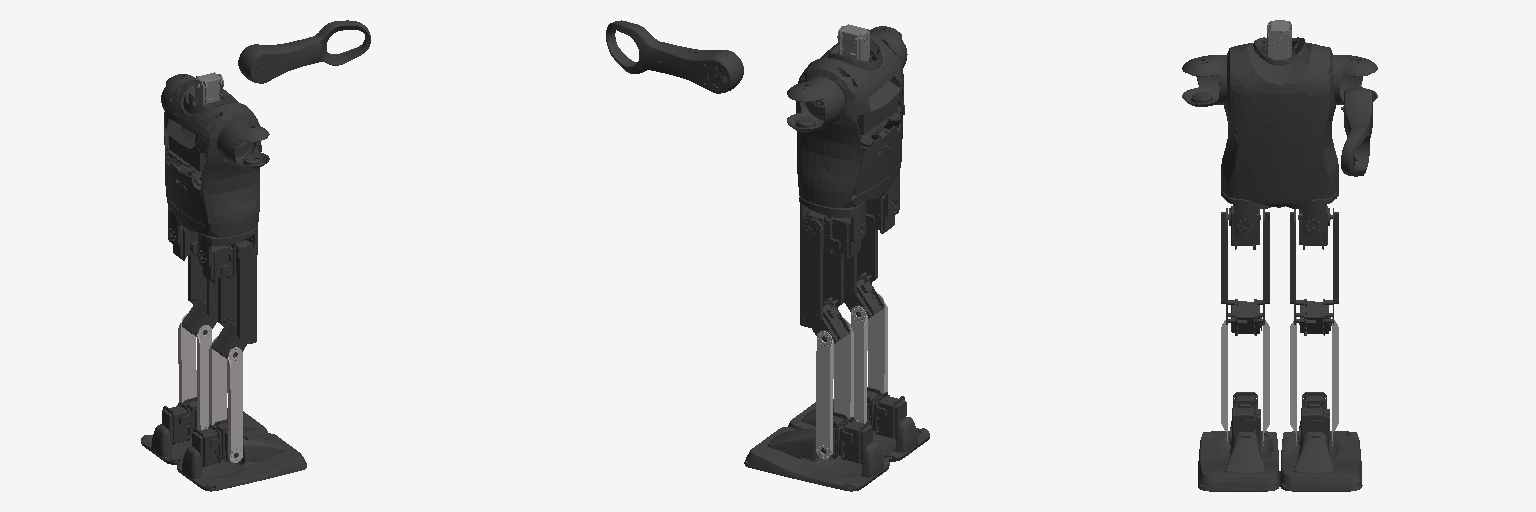
robot.urdf — onshape:
<robot name="onshape">
<link name="torso">
<visual>
<origin xyz="0 0 0" rpy="0 -0 0" />
<geometry>
<mesh filename="torso_visual.stl"/>
</geometry>
<material name="torso_material">
<color rgba="0.277513 0.284814 0.292115 1.0"/>
</material>
</visual>
<collision>
<origin xyz="0 0 0" rpy="0 -0 0" />
<geometry>
<mesh filename="torso_collision.stl"/>
</geometry>
<material name="torso_material">
<color rgba="0.5 0.5 0.5 1.0"/>
</material>
</collision>
<inertial>
<origin xyz="-0.000640019 -4.78299e-05 0.106034" rpy="0 0 0"/>
<mass value="2.92465" />
<inertia ixx="0.0180827" ixy="9.18672e-05"  ixz="-0.00120661" iyy="0.0158474" iyz="-5.19191e-08" izz="0.00831632" />
</inertial>
</link>

<link name="left_hip_yaw">
<visual>
<origin xyz="0 0 0" rpy="0 -0 0" />
<geometry>
<mesh filename="left_hip_yaw_visual.stl"/>
</geometry>
<material name="left_hip_yaw_material">
<color rgba="0.286275 0.286275 0.286275 1.0"/>
</material>
</visual>
<collision>
<origin xyz="0 0 0" rpy="0 -0 0" />
<geometry>
<mesh filename="left_hip_yaw_collision.stl"/>
</geometry>
<material name="left_hip_yaw_material">
<color rgba="0.5 0.5 0.5 1.0"/>
</material>
</collision>
<inertial>
<origin xyz="0.00894798 -0.0021828 -0.0247563" rpy="0 0 0"/>
<mass value="0.0594023" />
<inertia ixx="0.000103641" ixy="-1.01414e-07"  ixz="1.50388e-06" iyy="5.24124e-05" iyz="-4.66978e-07" izz="0.000118627" />
</inertial>
</link>

<link name="left_hip_roll">
<visual>
<origin xyz="0 0 0" rpy="0 -0 0" />
<geometry>
<mesh filename="left_hip_roll_visual.stl"/>
</geometry>
<material name="left_hip_roll_material">
<color rgba="0.286275 0.286275 0.286275 1.0"/>
</material>
</visual>
<collision>
<origin xyz="0 0 0" rpy="0 -0 0" />
<geometry>
<mesh filename="left_hip_roll_collision.stl"/>
</geometry>
<material name="left_hip_roll_material">
<color rgba="0.5 0.5 0.5 1.0"/>
</material>
</collision>
<inertial>
<origin xyz="0.015733 -0.000686158 -0.0217073" rpy="0 0 0"/>
<mass value="0.395953" />
<inertia ixx="0.000314298" ixy="1.5275e-09"  ixz="9.78492e-18" iyy="0.000375808" iyz="5.62038e-06" izz="0.000127785" />
</inertial>
</link>

<link name="left_upper_leg">
<visual>
<origin xyz="0 0 0" rpy="0 -0 0" />
<geometry>
<mesh filename="left_upper_leg_visual.stl"/>
</geometry>
<material name="left_upper_leg_material">
<color rgba="0.286275 0.286275 0.286275 1.0"/>
</material>
</visual>
<collision>
<origin xyz="0 0 0" rpy="0 -0 0" />
<geometry>
<mesh filename="left_upper_leg_collision.stl"/>
</geometry>
<material name="left_upper_leg_material">
<color rgba="0.5 0.5 0.5 1.0"/>
</material>
</collision>
<inertial>
<origin xyz="0.184283 0.0137441 0.000560875" rpy="0 0 0"/>
<mass value="0.164996" />
<inertia ixx="5.75131e-05" ixy="1.69997e-05"  ixz="1.58805e-06" iyy="6.53561e-05" iyz="-1.25756e-06" izz="6.23689e-05" />
</inertial>
</link>

<link name="left_lower_leg">
<visual>
<origin xyz="0 0 0" rpy="0 -0 0" />
<geometry>
<mesh filename="left_lower_leg_visual.stl"/>
</geometry>
<material name="left_lower_leg_material">
<color rgba="0.737255 0.721569 0.717647 1.0"/>
</material>
</visual>
<collision>
<origin xyz="0 0 0" rpy="0 -0 0" />
<geometry>
<mesh filename="left_lower_leg_collision.stl"/>
</geometry>
<material name="left_lower_leg_material">
<color rgba="0.5 0.5 0.5 1.0"/>
</material>
</collision>
<inertial>
<origin xyz="0.1001 0.00388186 -1.61259e-08" rpy="0 0 0"/>
<mass value="0.0893011" />
<inertia ixx="9.01254e-05" ixy="1.57184e-09"  ixz="-7.87158e-11" iyy="0.000408951" iyz="1.16101e-11" izz="0.0003363" />
</inertial>
</link>

<link name="left_ankle">
<visual>
<origin xyz="0 0 0" rpy="0 -0 0" />
<geometry>
<mesh filename="left_ankle_visual.stl"/>
</geometry>
<material name="left_ankle_material">
<color rgba="0.286275 0.286275 0.286275 1.0"/>
</material>
</visual>
<collision>
<origin xyz="0 0 0" rpy="0 -0 0" />
<geometry>
<mesh filename="left_ankle_collision.stl"/>
</geometry>
<material name="left_ankle_material">
<color rgba="0.5 0.5 0.5 1.0"/>
</material>
</collision>
<inertial>
<origin xyz="0.0219762 0.015733 0.000512596" rpy="0 0 0"/>
<mass value="0.329993" />
<inertia ixx="0.000141335" ixy="2.0288e-06"  ixz="3.69044e-06" iyy="0.000247382" iyz="-2.02253e-06" izz="0.000300569" />
</inertial>
</link>

<link name="left_foot">
<visual>
<origin xyz="0 0 0" rpy="0 -0 0" />
<geometry>
<mesh filename="left_foot_visual.stl"/>
</geometry>
<material name="left_foot_material">
<color rgba="0.286275 0.286275 0.286275 1.0"/>
</material>
</visual>
<collision>
<origin xyz="0 0 0" rpy="0 -0 0" />
<geometry>
<mesh filename="left_foot_collision.stl"/>
</geometry>
<material name="left_foot_material">
<color rgba="0.5 0.5 0.5 1.0"/>
</material>
</collision>
<inertial>
<origin xyz="0.0248226 0.00798542 0.033284" rpy="0 0 0"/>
<mass value="0.245581" />
<inertia ixx="0.00134722" ixy="-9.73697e-06"  ixz="2.7382e-08" iyy="0.00108383" iyz="-1.34065e-05" izz="0.000332029" />
</inertial>
</link>

<link name="left_foot_base">
<visual>
<origin xyz="0 0 0" rpy="0 -0 0" />
<geometry>
<mesh filename="left_foot_base_visual.stl"/>
</geometry>
<material name="left_foot_base_material">
<color rgba="0.5 0.5 0.5 1.0"/>
</material>
</visual>
<collision>
<origin xyz="0 0 0" rpy="0 -0 0" />
<geometry>
<mesh filename="left_foot_base_collision.stl"/>
</geometry>
<material name="left_foot_base_material">
<color rgba="0.5 0.5 0.5 1.0"/>
</material>
</collision>
<inertial>
<origin xyz="0 0 0" rpy="0 0 0"/>
<mass value="0" />
<inertia ixx="0" ixy="0"  ixz="0" iyy="0" iyz="0" izz="0" />
</inertial>
</link>

<joint name="left_foot_base" type="fixed">
<origin xyz="0.0360246 2.77556e-17 1.30104e-18" rpy="8.86985e-31 -1.5708 0" />
<parent link="left_foot" />
<child link="left_foot_base" />
<axis xyz="0 0 1"/>
<limit effort="1" velocity="20" />
<joint_properties friction="0.0"/>
</joint>

<joint name="left_ankle_roll" type="revolute">
<origin xyz="4.34742e-09 4.58116e-10 -3.08702e-09" rpy="1.5708 3.11019e-14 -1.5708" />
<parent link="left_ankle" />
<child link="left_foot" />
<axis xyz="0 0 1"/>
<limit effort="1" velocity="20" lower="-3.14159" upper="3.14159"/>
<joint_properties friction="0.0"/>
</joint>

<joint name="left_ankle_pitch" type="revolute">
<origin xyz="0.200203 -3.25261e-17 2.27963e-09" rpy="4.2823e-15 8.25556e-15 1.5708" />
<parent link="left_lower_leg" />
<child link="left_ankle" />
<axis xyz="0 0 1"/>
<limit effort="1" velocity="20" lower="-3.14159" upper="3.14159"/>
<joint_properties friction="0.0"/>
</joint>

<joint name="left_knee_pitch" type="revolute">
<origin xyz="0.196593 0.023541 -4.85723e-17" rpy="-2.39295e-17 2.00368e-15 -0.00872665" />
<parent link="left_upper_leg" />
<child link="left_lower_leg" />
<axis xyz="0 0 1"/>
<limit effort="1" velocity="20" lower="-3.14159" upper="3.14159"/>
<joint_properties friction="0.0"/>
</joint>

<joint name="left_hip_pitch" type="revolute">
<origin xyz="0 1.38778e-17 6.93889e-18" rpy="-1.5708 -9.99201e-16 9.62078e-15" />
<parent link="left_hip_roll" />
<child link="left_upper_leg" />
<axis xyz="0 0 1"/>
<limit effort="1" velocity="20" lower="-3.14159" upper="3.14159"/>
<joint_properties friction="0.0"/>
</joint>

<joint name="left_hip_roll" type="revolute">
<origin xyz="6.93889e-18 0.0221332 -0.0545" rpy="-1.5708 1.5708 0" />
<parent link="left_hip_yaw" />
<child link="left_hip_roll" />
<axis xyz="0 0 1"/>
<limit effort="1" velocity="20" lower="-3.14159" upper="3.14159"/>
<joint_properties friction="0.0"/>
</joint>

<joint name="left_hip_yaw" type="revolute">
<origin xyz="0 0.055 0" rpy="1.00616e-25 -1.69834e-26 -1.5708" />
<parent link="torso" />
<child link="left_hip_yaw" />
<axis xyz="0 0 1"/>
<limit effort="1" velocity="20" lower="-3.14159" upper="3.14159"/>
<joint_properties friction="0.0"/>
</joint>

<link name="right_hip_yaw">
<visual>
<origin xyz="0 0 0" rpy="0 -0 0" />
<geometry>
<mesh filename="right_hip_yaw_visual.stl"/>
</geometry>
<material name="right_hip_yaw_material">
<color rgba="0.286275 0.286275 0.286275 1.0"/>
</material>
</visual>
<collision>
<origin xyz="0 0 0" rpy="0 -0 0" />
<geometry>
<mesh filename="right_hip_yaw_collision.stl"/>
</geometry>
<material name="right_hip_yaw_material">
<color rgba="0.5 0.5 0.5 1.0"/>
</material>
</collision>
<inertial>
<origin xyz="0.0089479 0.00218277 -0.0247564" rpy="0 0 0"/>
<mass value="0.0594022" />
<inertia ixx="0.000103641" ixy="1.01073e-07"  ixz="1.50417e-06" iyy="5.24117e-05" iyz="4.67163e-07" izz="0.000118626" />
</inertial>
</link>

<link name="right_hip_roll">
<visual>
<origin xyz="0 0 0" rpy="0 -0 0" />
<geometry>
<mesh filename="right_hip_roll_visual.stl"/>
</geometry>
<material name="right_hip_roll_material">
<color rgba="0.286275 0.286275 0.286275 1.0"/>
</material>
</visual>
<collision>
<origin xyz="0 0 0" rpy="0 -0 0" />
<geometry>
<mesh filename="right_hip_roll_collision.stl"/>
</geometry>
<material name="right_hip_roll_material">
<color rgba="0.5 0.5 0.5 1.0"/>
</material>
</collision>
<inertial>
<origin xyz="0.015733 -0.000232251 -0.0218286" rpy="0 0 0"/>
<mass value="0.395953" />
<inertia ixx="0.000316367" ixy="-9.04561e-09"  ixz="-3.13402e-20" iyy="0.000378025" iyz="1.97787e-06" izz="0.000127637" />
</inertial>
</link>

<link name="right_upper_leg">
<visual>
<origin xyz="0 0 0" rpy="0 -0 0" />
<geometry>
<mesh filename="right_upper_leg_visual.stl"/>
</geometry>
<material name="right_upper_leg_material">
<color rgba="0.286275 0.286275 0.286275 1.0"/>
</material>
</visual>
<collision>
<origin xyz="0 0 0" rpy="0 -0 0" />
<geometry>
<mesh filename="right_upper_leg_collision.stl"/>
</geometry>
<material name="right_upper_leg_material">
<color rgba="0.5 0.5 0.5 1.0"/>
</material>
</collision>
<inertial>
<origin xyz="0.184283 0.0137441 0.00101087" rpy="0 0 0"/>
<mass value="0.164996" />
<inertia ixx="5.75131e-05" ixy="1.69997e-05"  ixz="1.58805e-06" iyy="6.53561e-05" iyz="-1.25756e-06" izz="6.23689e-05" />
</inertial>
</link>

<link name="right_lower_leg">
<visual>
<origin xyz="0 0 0" rpy="0 -0 0" />
<geometry>
<mesh filename="right_lower_leg_visual.stl"/>
</geometry>
<material name="right_lower_leg_material">
<color rgba="0.737255 0.721569 0.717647 1.0"/>
</material>
</visual>
<collision>
<origin xyz="0 0 0" rpy="0 -0 0" />
<geometry>
<mesh filename="right_lower_leg_collision.stl"/>
</geometry>
<material name="right_lower_leg_material">
<color rgba="0.5 0.5 0.5 1.0"/>
</material>
</collision>
<inertial>
<origin xyz="0.100103 0.00388186 1.61259e-08" rpy="0 0 0"/>
<mass value="0.0893011" />
<inertia ixx="9.01254e-05" ixy="-1.57184e-09"  ixz="-7.87158e-11" iyy="0.000408951" iyz="-1.16101e-11" izz="0.0003363" />
</inertial>
</link>

<link name="right_ankle">
<visual>
<origin xyz="0 0 0" rpy="0 -0 0" />
<geometry>
<mesh filename="right_ankle_visual.stl"/>
</geometry>
<material name="right_ankle_material">
<color rgba="0.286275 0.286275 0.286275 1.0"/>
</material>
</visual>
<collision>
<origin xyz="0 0 0" rpy="0 -0 0" />
<geometry>
<mesh filename="right_ankle_collision.stl"/>
</geometry>
<material name="right_ankle_material">
<color rgba="0.5 0.5 0.5 1.0"/>
</material>
</collision>
<inertial>
<origin xyz="0.0219762 -0.015733 -0.000512596" rpy="0 0 0"/>
<mass value="0.329993" />
<inertia ixx="0.000141335" ixy="2.02253e-06"  ixz="-3.69044e-06" iyy="0.000247382" iyz="-2.0288e-06" izz="0.000300569" />
</inertial>
</link>

<link name="right_foot">
<visual>
<origin xyz="0 0 0" rpy="0 -0 0" />
<geometry>
<mesh filename="right_foot_visual.stl"/>
</geometry>
<material name="right_foot_material">
<color rgba="0.286275 0.286275 0.286275 1.0"/>
</material>
</visual>
<collision>
<origin xyz="0 0 0" rpy="0 -0 0" />
<geometry>
<mesh filename="right_foot_collision.stl"/>
</geometry>
<material name="right_foot_material">
<color rgba="0.5 0.5 0.5 1.0"/>
</material>
</collision>
<inertial>
<origin xyz="0.024823 -0.00798676 0.0332808" rpy="0 0 0"/>
<mass value="0.245567" />
<inertia ixx="0.00134712" ixy="9.73589e-06"  ixz="2.22656e-08" iyy="0.00108376" iyz="1.34039e-05" izz="0.000331997" />
</inertial>
</link>

<link name="right_foot_base">
<visual>
<origin xyz="0 0 0" rpy="0 -0 0" />
<geometry>
<mesh filename="right_foot_base_visual.stl"/>
</geometry>
<material name="right_foot_base_material">
<color rgba="0.5 0.5 0.5 1.0"/>
</material>
</visual>
<collision>
<origin xyz="0 0 0" rpy="0 -0 0" />
<geometry>
<mesh filename="right_foot_base_collision.stl"/>
</geometry>
<material name="right_foot_base_material">
<color rgba="0.5 0.5 0.5 1.0"/>
</material>
</collision>
<inertial>
<origin xyz="0 0 0" rpy="0 0 0"/>
<mass value="0" />
<inertia ixx="0" ixy="0"  ixz="0" iyy="0" iyz="0" izz="0" />
</inertial>
</link>

<joint name="right_foot_base" type="fixed">
<origin xyz="0.0360246 1.38778e-17 6.93889e-18" rpy="1.91535e-30 -1.5708 0" />
<parent link="right_foot" />
<child link="right_foot_base" />
<axis xyz="0 0 1"/>
<limit effort="1" velocity="20" />
<joint_properties friction="0.0"/>
</joint>

<joint name="right_ankle_roll" type="revolute">
<origin xyz="4.34741e-09 -4.58126e-10 3.08702e-09" rpy="-1.5708 -1.2536e-14 1.5708" />
<parent link="right_ankle" />
<child link="right_foot" />
<axis xyz="0 0 1"/>
<limit effort="1" velocity="20" lower="-3.14159" upper="3.14159"/>
<joint_properties friction="0.0"/>
</joint>

<joint name="right_ankle_pitch" type="revolute">
<origin xyz="0.200203 3.29597e-17 2.27963e-09" rpy="3.14159 1.13004e-15 1.5708" />
<parent link="right_lower_leg" />
<child link="right_ankle" />
<axis xyz="0 0 1"/>
<limit effort="1" velocity="20" lower="-3.14159" upper="3.14159"/>
<joint_properties friction="0.0"/>
</joint>

<joint name="right_knee_pitch" type="revolute">
<origin xyz="0.196593 0.023541 1.38778e-17" rpy="-4.42135e-16 -4.47956e-16 -0.00872665" />
<parent link="right_upper_leg" />
<child link="right_lower_leg" />
<axis xyz="0 0 1"/>
<limit effort="1" velocity="20" lower="-3.14159" upper="3.14159"/>
<joint_properties friction="0.0"/>
</joint>

<joint name="right_hip_pitch" type="revolute">
<origin xyz="-2.08167e-17 -6.93889e-18 6.93889e-18" rpy="-1.5708 -3.91904e-27 -2.30022e-27" />
<parent link="right_hip_roll" />
<child link="right_upper_leg" />
<axis xyz="0 0 1"/>
<limit effort="1" velocity="20" lower="-3.14159" upper="3.14159"/>
<joint_properties friction="0.0"/>
</joint>

<joint name="right_hip_roll" type="revolute">
<origin xyz="6.93889e-18 -0.0221332 -0.0545" rpy="1.5708 1.5708 0" />
<parent link="right_hip_yaw" />
<child link="right_hip_roll" />
<axis xyz="0 0 1"/>
<limit effort="1" velocity="20" lower="-3.14159" upper="3.14159"/>
<joint_properties friction="0.0"/>
</joint>

<joint name="right_hip_yaw" type="revolute">
<origin xyz="-6.93889e-18 -0.055 -5.55112e-17" rpy="1.56194e-28 1.0176e-28 1.5708" />
<parent link="torso" />
<child link="right_hip_yaw" />
<axis xyz="0 0 1"/>
<limit effort="1" velocity="20" lower="-3.14159" upper="3.14159"/>
<joint_properties friction="0.0"/>
</joint>

<link name="neck">
<visual>
<origin xyz="0 0 0" rpy="0 -0 0" />
<geometry>
<mesh filename="neck_visual.stl"/>
</geometry>
<material name="neck_material">
<color rgba="0.5 0.5 0.5 1.0"/>
</material>
</visual>
<collision>
<origin xyz="0 0 0" rpy="0 -0 0" />
<geometry>
<mesh filename="neck_collision.stl"/>
</geometry>
<material name="neck_material">
<color rgba="0.5 0.5 0.5 1.0"/>
</material>
</collision>
<inertial>
<origin xyz="0 0 0" rpy="0 0 0"/>
<mass value="0" />
<inertia ixx="0" ixy="0"  ixz="0" iyy="0" iyz="0" izz="0" />
</inertial>
</link>

<link name="head">
<visual>
<origin xyz="0 0 0" rpy="0 -0 0" />
<geometry>
<mesh filename="head_visual.stl"/>
</geometry>
<material name="head_material">
<color rgba="0.281665 0.281665 0.281665 1.0"/>
</material>
</visual>
<collision>
<origin xyz="0 0 0" rpy="0 -0 0" />
<geometry>
<mesh filename="head_collision.stl"/>
</geometry>
<material name="head_material">
<color rgba="0.5 0.5 0.5 1.0"/>
</material>
</collision>
<inertial>
<origin xyz="0.0665563 0.0103216 -0.000100617" rpy="0 0 0"/>
<mass value="0.473503" />
<inertia ixx="0.0019685" ixy="6.5715e-06"  ixz="-8.0299e-06" iyy="0.0014533" iyz="5.45647e-07" izz="0.00107445" />
</inertial>
</link>

<joint name="neck_pitch" type="revolute">
<origin xyz="-0.00024471 0.000255294 -0.0481" rpy="6.12323e-17 1.5708 0" />
<parent link="neck" />
<child link="head" />
<axis xyz="0 0 1"/>
<limit effort="1" velocity="20" lower="-3.14159" upper="3.14159"/>
<joint_properties friction="0.0"/>
</joint>

<joint name="neck_yaw" type="revolute">
<origin xyz="-0.008 2.36302e-16 0.20825" rpy="3.14159 -2.77556e-16 1.5708" />
<parent link="torso" />
<child link="neck" />
<axis xyz="0 0 1"/>
<limit effort="1" velocity="20" lower="-3.14159" upper="3.14159"/>
<joint_properties friction="0.0"/>
</joint>

<link name="left_shoulder">
<visual>
<origin xyz="0 0 0" rpy="0 -0 0" />
<geometry>
<mesh filename="left_shoulder_visual.stl"/>
</geometry>
<material name="left_shoulder_material">
<color rgba="0.286275 0.286275 0.286275 1.0"/>
</material>
</visual>
<collision>
<origin xyz="0 0 0" rpy="0 -0 0" />
<geometry>
<mesh filename="left_shoulder_collision.stl"/>
</geometry>
<material name="left_shoulder_material">
<color rgba="0.5 0.5 0.5 1.0"/>
</material>
</collision>
<inertial>
<origin xyz="-0.00254925 -3.61374e-05 -0.0287427" rpy="0 0 0"/>
<mass value="0.0845502" />
<inertia ixx="7.30295e-05" ixy="7.55192e-08"  ixz="-1.04146e-07" iyy="9.33613e-05" iyz="-3.99116e-06" izz="9.74311e-05" />
</inertial>
</link>

<link name="left_upper_arm">
<visual>
<origin xyz="0 0 0" rpy="0 -0 0" />
<geometry>
<mesh filename="left_upper_arm_visual.stl"/>
</geometry>
<material name="left_upper_arm_material">
<color rgba="0.286275 0.286275 0.286275 1.0"/>
</material>
</visual>
<collision>
<origin xyz="0 0 0" rpy="0 -0 0" />
<geometry>
<mesh filename="left_upper_arm_collision.stl"/>
</geometry>
<material name="left_upper_arm_material">
<color rgba="0.5 0.5 0.5 1.0"/>
</material>
</collision>
<inertial>
<origin xyz="0.0836585 -0.000830413 0.000118056" rpy="0 0 0"/>
<mass value="0.13422" />
<inertia ixx="0.000587833" ixy="2.72953e-05"  ixz="3.41697e-05" iyy="0.000173636" iyz="-4.38504e-06" izz="0.000581601" />
</inertial>
</link>

<link name="left_lower_arm">
<visual>
<origin xyz="0 0 0" rpy="0 -0 0" />
<geometry>
<mesh filename="left_lower_arm_visual.stl"/>
</geometry>
<material name="left_lower_arm_material">
<color rgba="0.286275 0.286275 0.286275 1.0"/>
</material>
</visual>
<collision>
<origin xyz="0 0 0" rpy="0 -0 0" />
<geometry>
<mesh filename="left_lower_arm_collision.stl"/>
</geometry>
<material name="left_lower_arm_material">
<color rgba="0.5 0.5 0.5 1.0"/>
</material>
</collision>
<inertial>
<origin xyz="0.0509966 -0.000605553 6.9181e-05" rpy="0 0 0"/>
<mass value="0.287325" />
<inertia ixx="0.000111748" ixy="2.15259e-05"  ixz="8.66393e-06" iyy="0.00116741" iyz="-9.9785e-07" izz="0.00119364" />
</inertial>
</link>

<joint name="left_elbow_pitch" type="revolute">
<origin xyz="0.1575 5.57465e-05 -0.02695" rpy="1.5708 -7.49418e-30 -2.00673e-14" />
<parent link="left_upper_arm" />
<child link="left_lower_arm" />
<axis xyz="0 0 1"/>
<limit effort="1" velocity="20" lower="-3.14159" upper="3.14159"/>
<joint_properties friction="0.0"/>
</joint>

<joint name="left_shoulder_roll" type="revolute">
<origin xyz="-0.0100012 0 -0.0479124" rpy="1.5708 -1.93145e-15 -3.14159" />
<parent link="left_shoulder" />
<child link="left_upper_arm" />
<axis xyz="0 0 1"/>
<limit effort="1" velocity="20" lower="-3.14159" upper="3.14159"/>
<joint_properties friction="0.0"/>
</joint>

<joint name="left_shoulder_pitch" type="revolute">
<origin xyz="-2.0498e-17 0.077 0.17725" rpy="-1.5708 1.07261e-15 -3.14159" />
<parent link="torso" />
<child link="left_shoulder" />
<axis xyz="0 0 1"/>
<limit effort="1" velocity="20" lower="-3.14159" upper="3.14159"/>
<joint_properties friction="0.0"/>
</joint>

<link name="right_shoulder">
<visual>
<origin xyz="0 0 0" rpy="0 -0 0" />
<geometry>
<mesh filename="right_shoulder_visual.stl"/>
</geometry>
<material name="right_shoulder_material">
<color rgba="0.286275 0.286275 0.286275 1.0"/>
</material>
</visual>
<collision>
<origin xyz="0 0 0" rpy="0 -0 0" />
<geometry>
<mesh filename="right_shoulder_collision.stl"/>
</geometry>
<material name="right_shoulder_material">
<color rgba="0.5 0.5 0.5 1.0"/>
</material>
</collision>
<inertial>
<origin xyz="-0.00254925 3.46247e-05 -0.0287427" rpy="0 0 0"/>
<mass value="0.0845501" />
<inertia ixx="7.30296e-05" ixy="7.5393e-08"  ixz="-1.04639e-07" iyy="9.33615e-05" iyz="-3.99136e-06" izz="9.74312e-05" />
</inertial>
</link>

<link name="right_upper_arm">
<visual>
<origin xyz="0 0 0" rpy="0 -0 0" />
<geometry>
<mesh filename="right_upper_arm_visual.stl"/>
</geometry>
<material name="right_upper_arm_material">
<color rgba="0.286275 0.286275 0.286275 1.0"/>
</material>
</visual>
<collision>
<origin xyz="0 0 0" rpy="0 -0 0" />
<geometry>
<mesh filename="right_upper_arm_collision.stl"/>
</geometry>
<material name="right_upper_arm_material">
<color rgba="0.5 0.5 0.5 1.0"/>
</material>
</collision>
<inertial>
<origin xyz="0.0836544 0.000827717 -0.000126203" rpy="0 0 0"/>
<mass value="0.134208" />
<inertia ixx="0.000587789" ixy="3.04872e-05"  ixz="3.20481e-05" iyy="0.000173599" iyz="4.36222e-06" izz="0.000581565" />
</inertial>
</link>

<link name="right_lower_arm">
<visual>
<origin xyz="0 0 0" rpy="0 -0 0" />
<geometry>
<mesh filename="right_lower_arm_visual.stl"/>
</geometry>
<material name="right_lower_arm_material">
<color rgba="0.286275 0.286275 0.286275 1.0"/>
</material>
</visual>
<collision>
<origin xyz="0 0 0" rpy="0 -0 0" />
<geometry>
<mesh filename="right_lower_arm_collision.stl"/>
</geometry>
<material name="right_lower_arm_material">
<color rgba="0.5 0.5 0.5 1.0"/>
</material>
</collision>
<inertial>
<origin xyz="0.0510002 -0.00060488 -6.85101e-05" rpy="0 0 0"/>
<mass value="0.28735" />
<inertia ixx="0.000111766" ixy="2.16283e-05"  ixz="-1.28104e-05" iyy="0.00116763" iyz="1.00504e-06" izz="0.00119387" />
</inertial>
</link>

<joint name="right_elbow_pitch" type="revolute">
<origin xyz="0.1575 -5.57465e-05 -0.02695" rpy="1.5708 4.09672e-14 -1.50852e-14" />
<parent link="right_upper_arm" />
<child link="right_lower_arm" />
<axis xyz="0 0 1"/>
<limit effort="1" velocity="20" lower="-3.14159" upper="3.14159"/>
<joint_properties friction="0.0"/>
</joint>

<joint name="right_shoulder_roll" type="revolute">
<origin xyz="-0.0100012 2.77556e-17 -0.0479124" rpy="-1.5708 -3.12007e-15 3.14159" />
<parent link="right_shoulder" />
<child link="right_upper_arm" />
<axis xyz="0 0 1"/>
<limit effort="1" velocity="20" lower="-3.14159" upper="3.14159"/>
<joint_properties friction="0.0"/>
</joint>

<joint name="right_shoulder_pitch" type="revolute">
<origin xyz="-3.8548e-17 -0.077 0.17725" rpy="1.5708 -5.87966e-17 -3.14159" />
<parent link="torso" />
<child link="right_shoulder" />
<axis xyz="0 0 1"/>
<limit effort="1" velocity="20" lower="-3.14159" upper="3.14159"/>
<joint_properties friction="0.0"/>
</joint>


</robot>

--- Render facts (derived) ---
Views: 3 orthographic renders of the robot side by side, from view 1: azimuth 30°, elevation 25°; view 2: azimuth 150°, elevation 25°; view 3: azimuth 270°, elevation 25°.
Model onshape with 23 links and 22 joints (20 revolute, 2 fixed), rooted at torso, posed every joint at zero.
Visible links, largest first — view 1: torso, right_foot, left_lower_arm, right_upper_leg, right_lower_leg, left_lower_leg, right_shoulder, left_upper_leg, left_foot, right_ankle, left_ankle, right_hip_roll (+3 smaller); view 2: torso, left_foot, left_lower_arm, left_upper_leg, left_lower_leg, right_lower_leg, left_shoulder, right_upper_leg, right_foot, left_ankle, right_ankle, left_hip_roll (+4 smaller); view 3: torso, left_foot, right_foot, right_upper_leg, left_lower_arm, left_upper_leg, right_shoulder, left_lower_leg, right_lower_leg, left_shoulder, left_ankle, right_ankle (+5 smaller).
Boxes of the visible links, <box> form: torso: <box>164,80,261,237</box>; right_foot: <box>177,433,306,491</box>; left_lower_arm: <box>238,20,370,83</box>; right_upper_leg: <box>212,246,256,360</box>; right_lower_leg: <box>209,336,242,462</box>; left_lower_leg: <box>178,314,211,430</box>; right_shoulder: <box>217,119,269,168</box>; left_upper_leg: <box>182,255,217,336</box>; left_foot: <box>141,408,268,464</box>; right_ankle: <box>192,419,238,466</box>; left_ankle: <box>162,397,205,444</box>; right_hip_roll: <box>202,240,252,282</box>; torso: <box>796,33,904,207</box>; left_foot: <box>744,427,889,491</box>; left_lower_arm: <box>606,20,743,93</box>; left_upper_leg: <box>800,218,849,345</box>; left_lower_leg: <box>816,318,853,459</box>; right_lower_leg: <box>850,293,887,423</box>; left_shoulder: <box>787,76,845,131</box>; right_upper_leg: <box>844,227,883,320</box>; right_foot: <box>788,399,929,461</box>; left_ankle: <box>819,412,872,463</box>; right_ankle: <box>867,387,906,438</box>; left_hip_roll: <box>806,211,860,258</box>; torso: <box>1221,37,1338,207</box>; left_foot: <box>1280,421,1362,491</box>; right_foot: <box>1198,421,1279,491</box>; right_upper_leg: <box>1221,208,1269,335</box>; left_lower_arm: <box>1341,88,1372,176</box>; left_upper_leg: <box>1290,208,1338,335</box>; right_shoulder: <box>1182,55,1227,106</box>; left_lower_leg: <box>1290,317,1338,445</box>; right_lower_leg: <box>1221,320,1269,445</box>; left_shoulder: <box>1333,55,1377,104</box>; left_ankle: <box>1297,392,1330,445</box>; right_ankle: <box>1228,392,1261,445</box>.
Size in the robot's own frame: 0.4783 by 0.3126 by 0.7604 metres.
Meshes: 23 distinct files referenced, 19 mesh visuals loaded (19 binary STL); not drawn: 4 (reference not matched to a file when rendering).